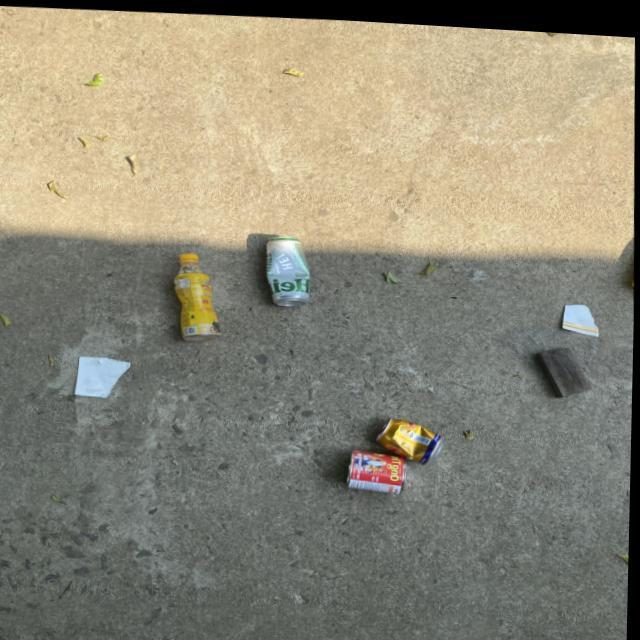clothes: (359, 405, 450, 467), (263, 216, 319, 312), (340, 436, 422, 492)
food: (66, 348, 146, 407), (542, 288, 606, 338)
leaf: (169, 236, 226, 351)
plastic bag: (504, 332, 612, 404)
